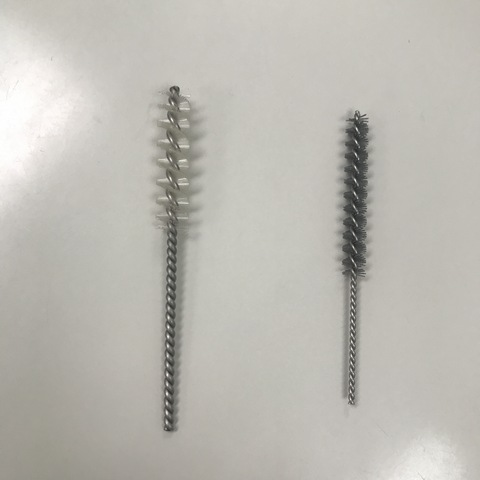Twist Brush-A: (336, 107, 371, 408)
Twist Brush-B: (145, 82, 196, 434)
